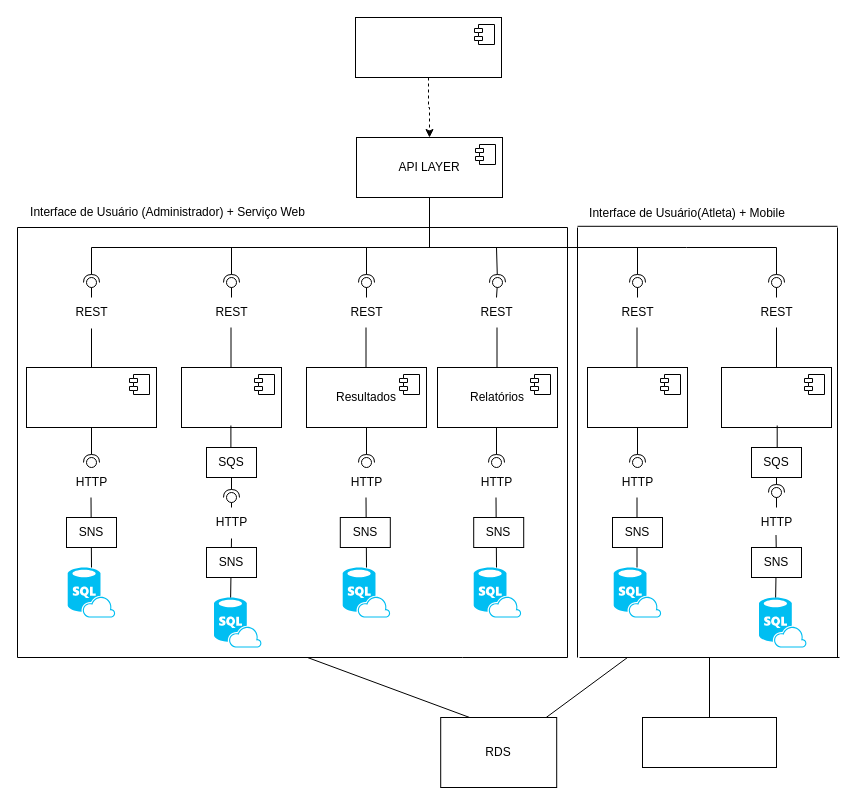
Some shapes in this 858 by 805 pixel diagram are drawn without their labels. Here are the shapes that lost their labels. From the top down, the box of each, then its label:
(354, 16, 502, 78): BACK-END
(26, 366, 156, 428): Competição
(180, 366, 282, 428): Local
(586, 366, 688, 428): Atletas
(720, 366, 832, 428): Inscrição
(642, 716, 776, 768): Amazon CloudFront
